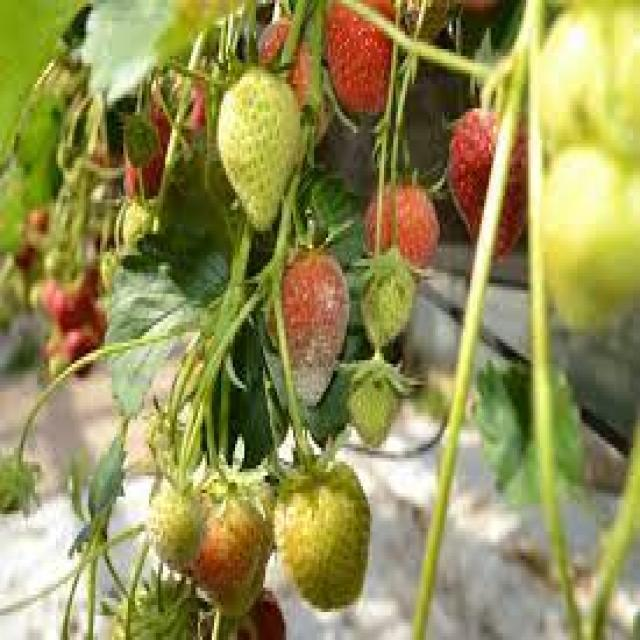Fruta sana: (454, 100, 536, 272)
Moho gris: (266, 243, 354, 413)
